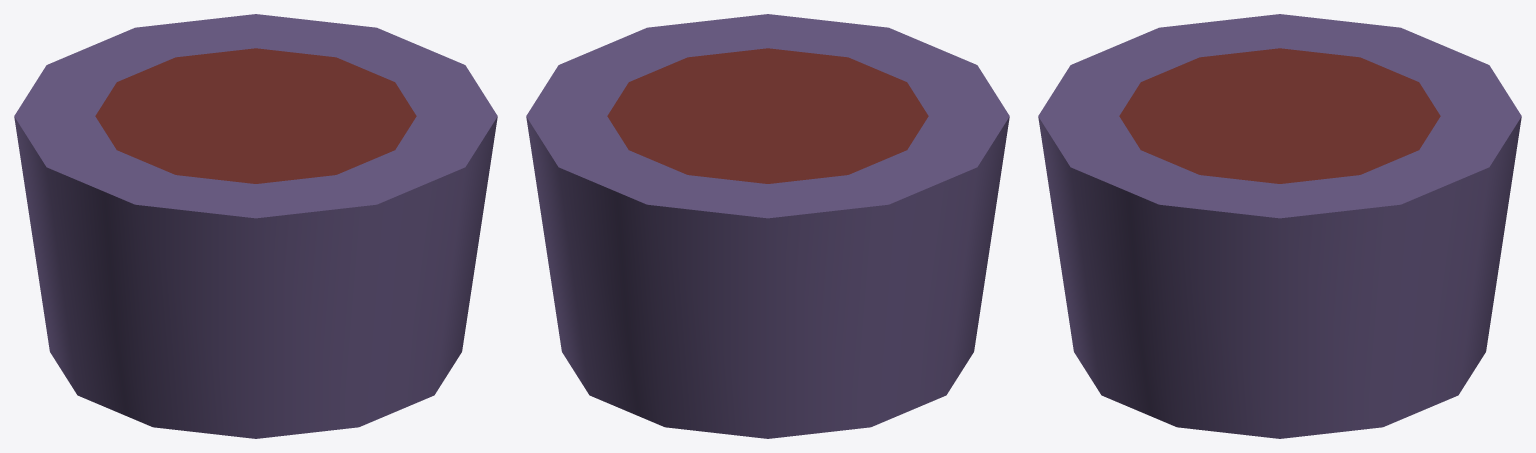
Rendered from flower_pot_04.fbx.
3 renders of one model, left to right at view 1: azimuth 30°, elevation 25°; view 2: azimuth 150°, elevation 25°; view 3: azimuth 270°, elevation 25°, orthographic.
Visible parts, largest first — view 1: flower_pot_04; view 2: flower_pot_04; view 3: flower_pot_04.
Part boxes in pixels (x1,y1,x2,y2): flower_pot_04: [14, 14, 497, 438]; flower_pot_04: [526, 14, 1009, 438]; flower_pot_04: [1038, 14, 1521, 438].
Bounding box in the file's own units: 88.67 × 47.68 × 88.67.
